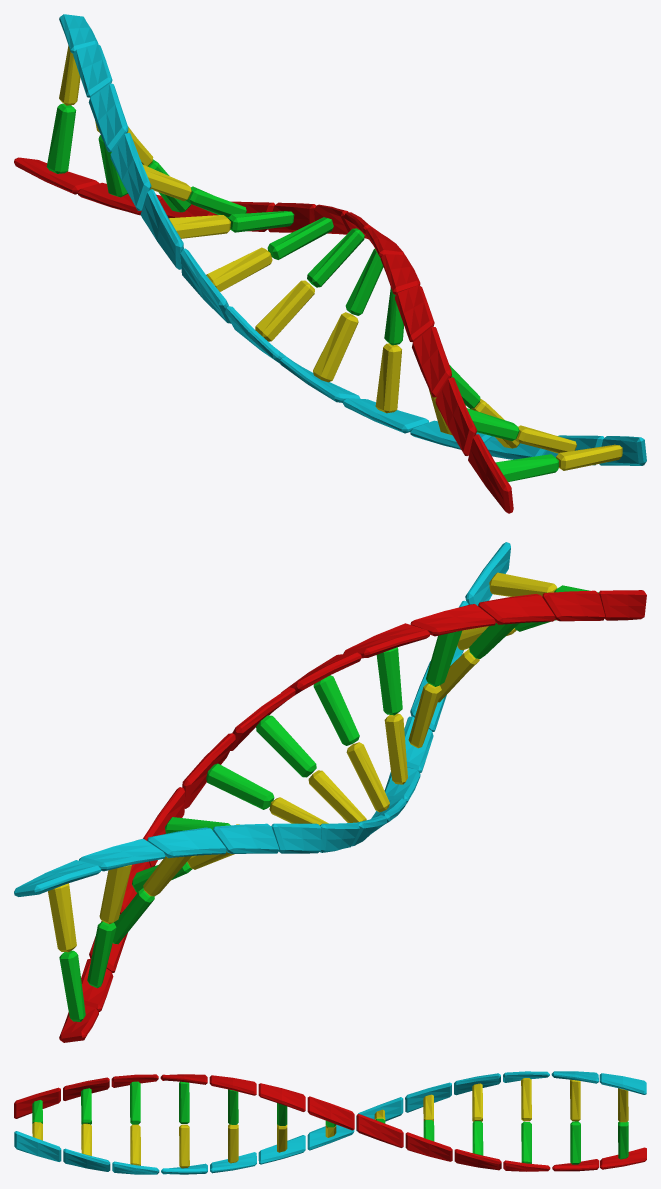
The model's file is DNA_straight.fbx.
The picture shows the model from 3 angles, top to bottom: view 1: azimuth 30°, elevation 25°; view 2: azimuth 150°, elevation 25°; view 3: azimuth 270°, elevation 25°; orthographic projection. The views are drawn at different scales.
Visible parts, largest first — view 1: Cube_22, Cube_7, Cube_5, Cube_24, Cube_3, Cube_20, Cube_1_7, Cube_1_8, Cube_9, Cube_2_14_2, Cube_1_6, Cube_26 (+27 smaller); view 2: Cube_7, Cube_24, Cube_22, Cube_5, Cube_9, Cube_2_9, Cube_26, Cube_2_8, Cube_2_10, Cube_26_2, Cube_20, Cube_11 (+26 smaller); view 3: Cube_17, Cube_15, Cube_4, Cube_19, Cube_13, Cube_3, Cube_14, Cube_20, Cube_6, Cube_26_2, Cube_21, Cube_11 (+36 smaller).
Part boxes in pixels (box(x1,y1,x2,y2)): Cube_22: box(110, 132, 151, 210); Cube_7: box(412, 327, 451, 397); Cube_5: box(435, 377, 476, 455); Cube_24: box(88, 83, 128, 152); Cube_3: box(468, 434, 513, 513); Cube_20: box(140, 189, 183, 269); Cube_1_7: box(313, 312, 358, 382); Cube_1_8: box(255, 280, 314, 341); Cube_9: box(395, 285, 434, 342); Cube_2_14_2: box(46, 103, 76, 173); Cube_1_6: box(375, 343, 401, 413); Cube_26: box(73, 43, 112, 97); Cube_7: box(478, 594, 554, 624); Cube_24: box(147, 827, 226, 858); Cube_22: box(213, 823, 279, 853); Cube_5: box(542, 590, 605, 621); Cube_9: box(410, 604, 495, 636); Cube_2_9: box(256, 715, 316, 777); Cube_26: box(79, 838, 165, 871); Cube_2_8: box(313, 675, 359, 745); Cube_2_10: box(206, 763, 274, 809); Cube_26_2: box(14, 860, 100, 896); Cube_20: box(271, 823, 321, 853); Cube_11: box(343, 623, 429, 658); Cube_17: box(356, 1114, 403, 1147); Cube_15: box(307, 1096, 354, 1130); Cube_4: box(14, 1131, 61, 1161); Cube_19: box(405, 1132, 452, 1161); Cube_13: box(258, 1083, 305, 1111); Cube_3: box(14, 1087, 60, 1118); Cube_14: box(258, 1135, 305, 1164); Cube_20: box(405, 1082, 451, 1112); Cube_6: box(63, 1148, 110, 1171); Cube_26_2: box(599, 1073, 646, 1094); Cube_21: box(454, 1149, 501, 1170); Cube_11: box(209, 1075, 256, 1095).
Size of the model in its own units: 95.04 by 94.61 by 583.
